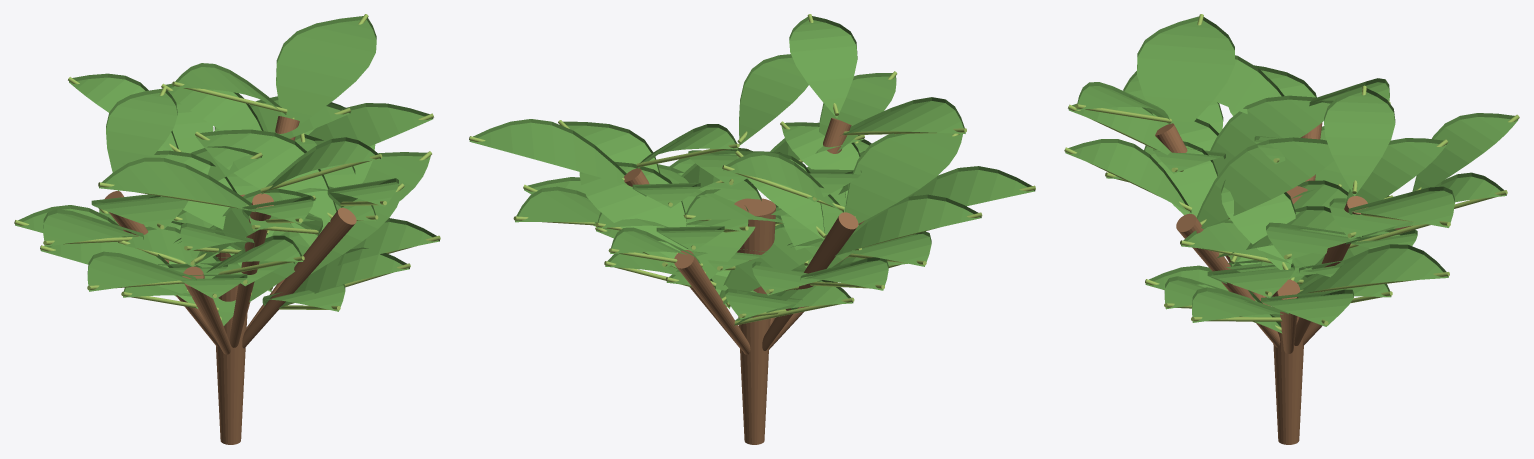
The model's file is tea-garden-and-processing-house-tea-garden-and-process-b582cf9e__30752.glb.
3 renders of one model, left to right at view 1: azimuth 30°, elevation 25°; view 2: azimuth 150°, elevation 25°; view 3: azimuth 270°, elevation 25°, orthographic. The views are drawn at different scales.
Parts seen in each view (by area): view 1: tea-garden-and-processing-house-young-tea-shrub; view 2: tea-garden-and-processing-house-young-tea-shrub; view 3: tea-garden-and-processing-house-young-tea-shrub.
Part boxes in pixels (box(x1,y1,x2,y2)): tea-garden-and-processing-house-young-tea-shrub: box(14, 14, 440, 444); tea-garden-and-processing-house-young-tea-shrub: box(469, 14, 1035, 444); tea-garden-and-processing-house-young-tea-shrub: box(1064, 14, 1519, 444).
Size of the model in its own units: 0.5873 by 0.4531 by 0.5202.
